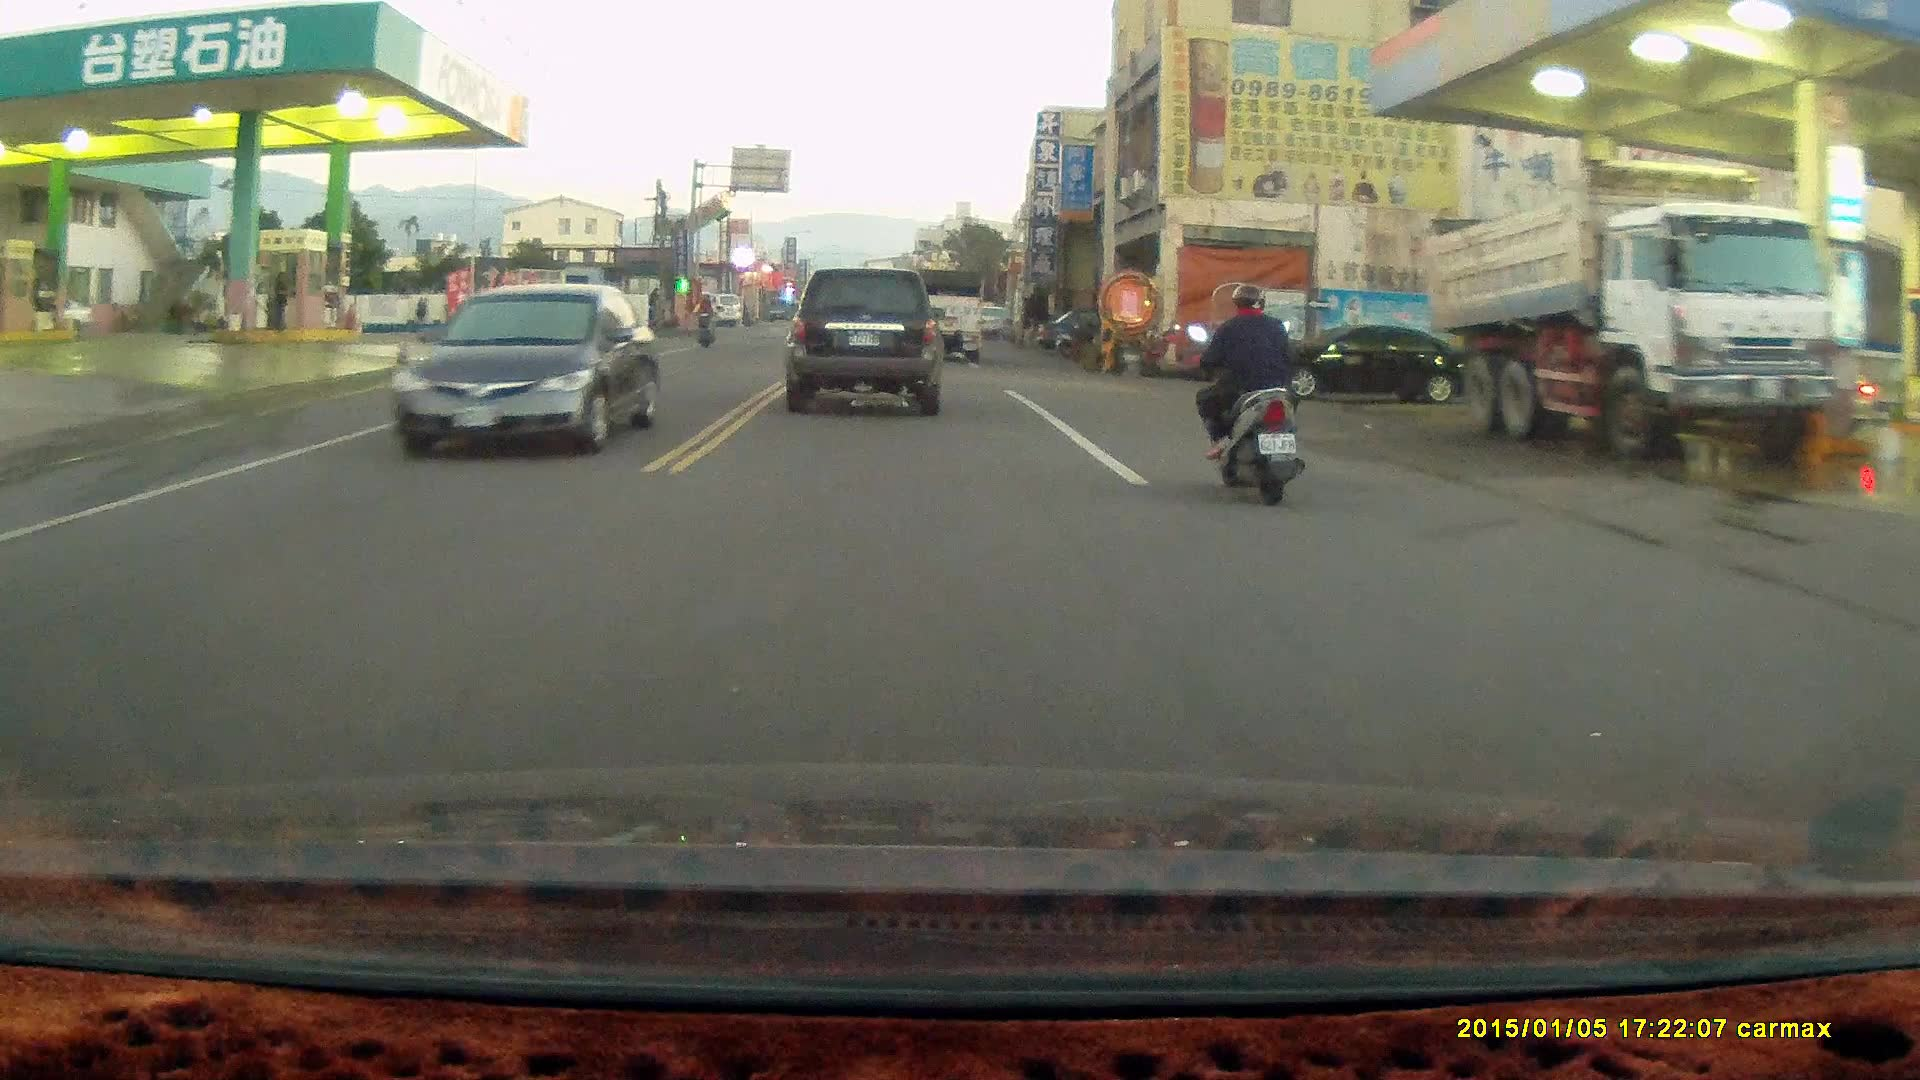rider: (1185, 279, 1304, 508), (690, 285, 720, 346)
vehicle: (1423, 155, 1852, 461), (396, 283, 659, 464), (786, 264, 946, 416), (1281, 324, 1461, 406), (907, 266, 988, 363)
